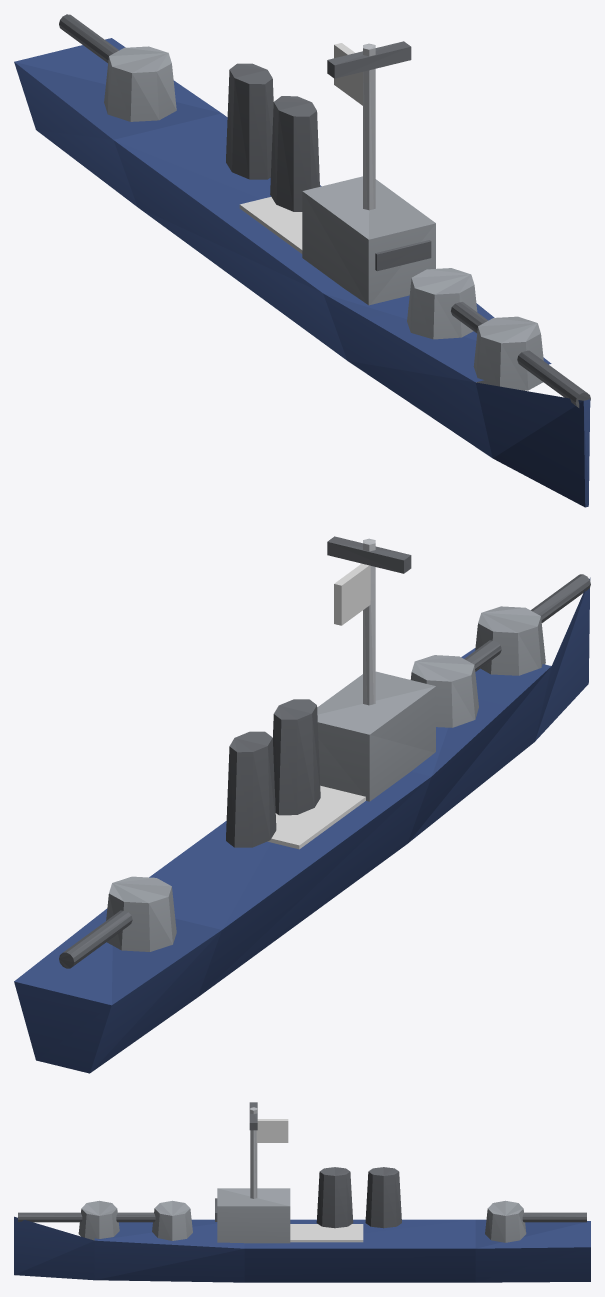
File: Destroyer.glb
The picture shows the model from 3 angles, top to bottom: view 1: azimuth 30°, elevation 25°; view 2: azimuth 150°, elevation 25°; view 3: azimuth 270°, elevation 25°; orthographic projection. The views are drawn at different scales.
Visible parts, largest first — view 1: Body; view 2: Body; view 3: Body.
Part boxes in pixels (x1,y1,x2,y2): Body: [14, 14, 590, 507]; Body: [14, 536, 590, 1073]; Body: [14, 1102, 590, 1282].
Bounding box in the file's own units: 0.17 × 0.45 × 1.42.
